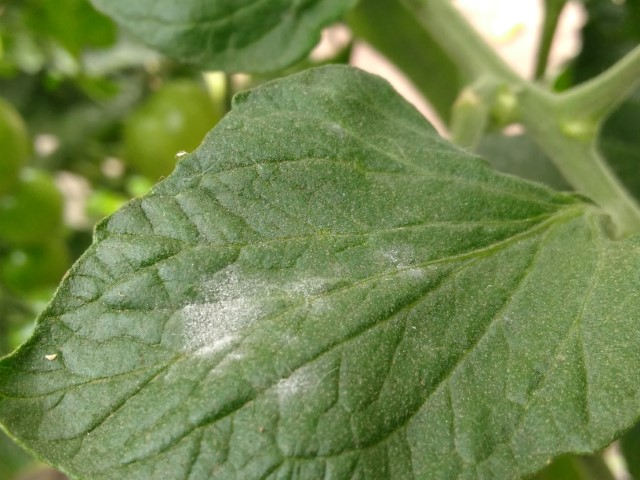oidio: (170, 276, 263, 363), (282, 269, 352, 322), (267, 358, 322, 403), (386, 252, 437, 289)
